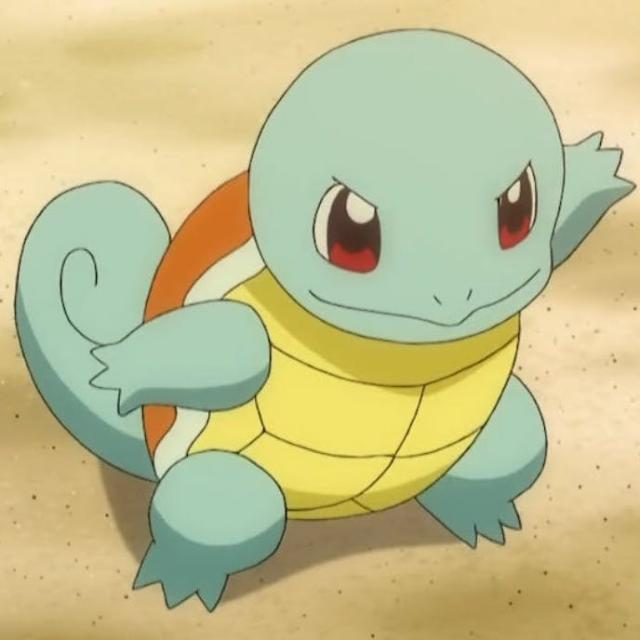Squirtle: (132, 29, 566, 532)
